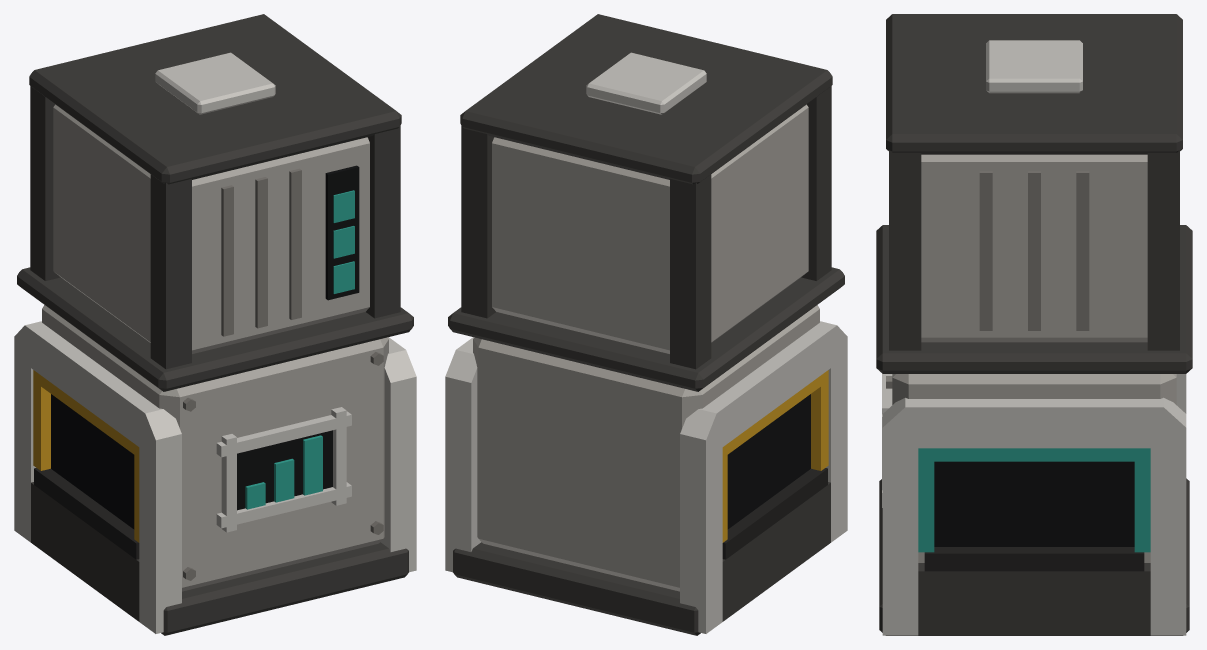
The model's file is storage.fbx.
3 renders of one model, left to right at view 1: azimuth 30°, elevation 25°; view 2: azimuth 150°, elevation 25°; view 3: azimuth 270°, elevation 25°, orthographic. The views are drawn at different scales.
Parts seen in each view (by area): view 1: storage; view 2: storage; view 3: storage.
Boxes of the visible parts, x1,y1,x2,y2 form: storage: (14,14,416,635); storage: (445,14,847,635); storage: (876,14,1192,635).
Size of the model in its own units: 3 by 5.27 by 2.94.
